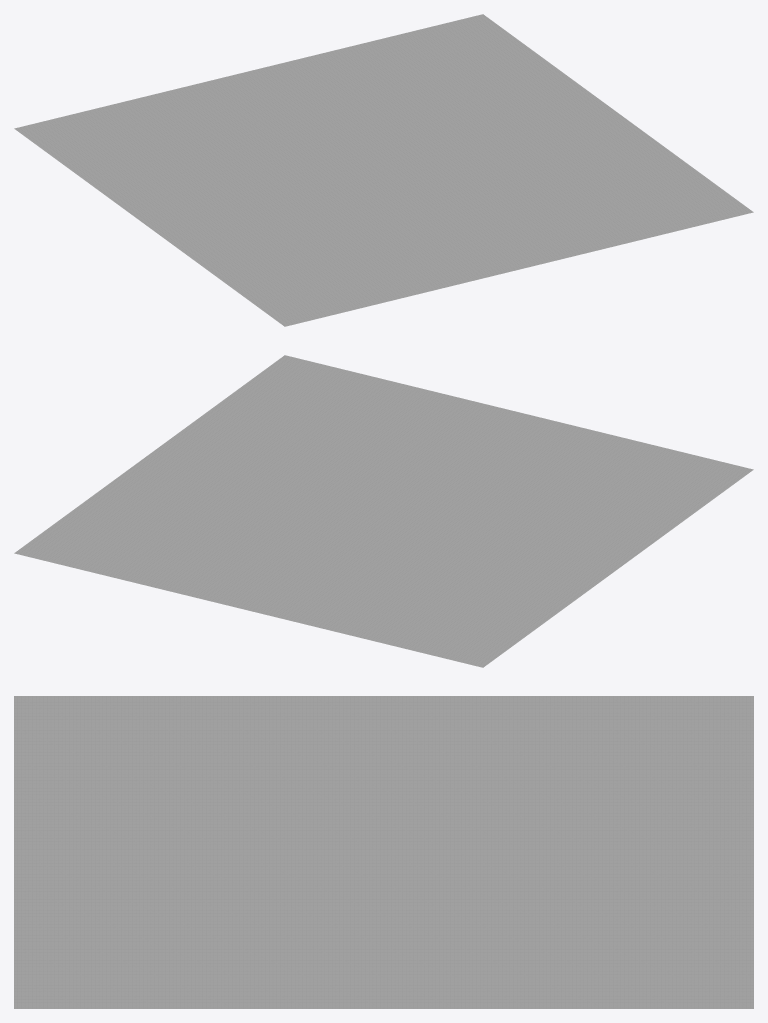
The model's file is ReferenceGround.gltf.
3 renders of one model, top to bottom at view 1: azimuth 30°, elevation 25°; view 2: azimuth 150°, elevation 25°; view 3: azimuth 270°, elevation 25°, orthographic. The views are drawn at different scales.
Visible parts, largest first — view 1: Plane; view 2: Plane; view 3: Plane.
Boxes of the visible parts, x1,y1,x2,y2 form: Plane: (14, 14, 753, 326); Plane: (14, 355, 753, 667); Plane: (14, 696, 753, 1008).
Bounding box in the file's own units: 200 × 0 × 200.
Materials: 1 (1 with a texture image).
